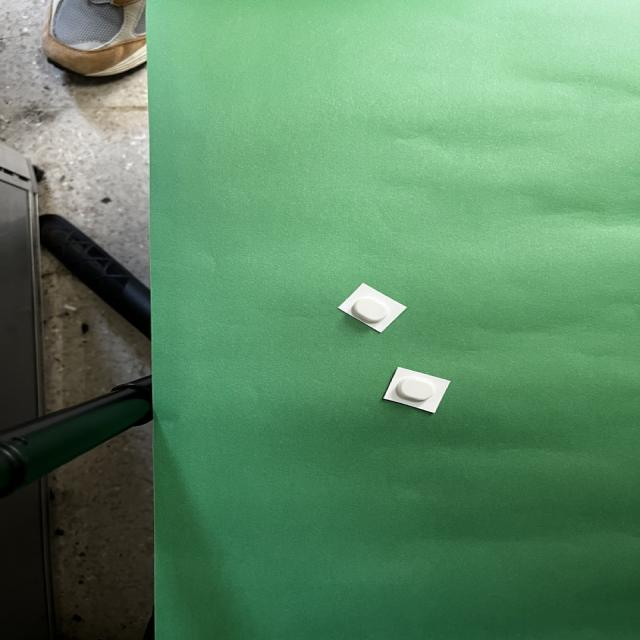Other Objects: (338, 283, 405, 332), (383, 367, 449, 413)
